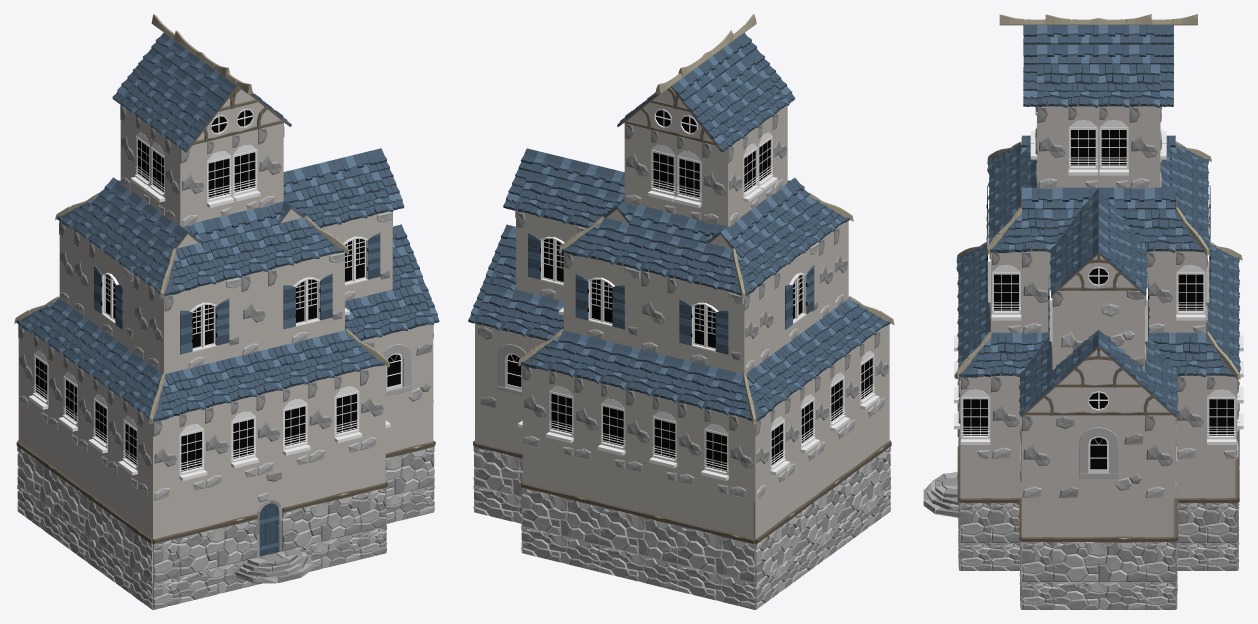
The model's file is house_3.fbx.
3 renders of one model, left to right at view 1: azimuth 30°, elevation 25°; view 2: azimuth 150°, elevation 25°; view 3: azimuth 270°, elevation 25°, orthographic. The views are drawn at different scales.
Parts seen in each view (by area): view 1: WALL_01_13, WALL_01_14, WINDOW_04_9, WINDOW_04_10, WINDOW_07_6, WINDOW_04_11, WALL_01_23, WALL_01_15, WALL_01_16, WALL_01_17, WINDOW_04_15, WINDOW_01_28 (+91 smaller); view 2: WALL_01_18, WALL_01_19, WALL_01_20, WINDOW_04_13, WINDOW_04_14, WINDOW_07_7, WINDOW_04_12, WALL_01_21, WALL_01_17, WALL_01_15, WALL_01_16, WINDOW_04_15 (+86 smaller); view 3: WALL_01_22, WINDOW_07_5, WALL_05_2, WALL_03_8, WINDOW_01_48, WALL_04_22, WALL_03_33, WINDOW_01_39, WINDOW_01_38, FOUNDATION_01_11, WALL_03_9, WINDOW_01_40 (+75 smaller).
Boxes of the visible parts, left/top/right/bottom form: WALL_01_13: left=282, top=451, right=360, bottom=551; WALL_01_14: left=179, top=476, right=257, bottom=576; WINDOW_04_9: left=267, top=252, right=344, bottom=349; WINDOW_04_10: left=164, top=277, right=241, bottom=373; WINDOW_07_6: left=362, top=324, right=433, bottom=415; WINDOW_04_11: left=321, top=211, right=392, bottom=301; WALL_01_23: left=385, top=404, right=434, bottom=496; WALL_01_15: left=106, top=469, right=154, bottom=582; WALL_01_16: left=61, top=436, right=108, bottom=549; WALL_01_17: left=16, top=404, right=63, bottom=516; WINDOW_04_15: left=89, top=242, right=133, bottom=352; WINDOW_01_28: left=230, top=396, right=258, bottom=482; WALL_01_18: left=676, top=483, right=756, bottom=582; WALL_01_19: left=599, top=464, right=677, bottom=563; WALL_01_20: left=521, top=445, right=600, bottom=544; WINDOW_04_13: left=667, top=276, right=745, bottom=373; WINDOW_04_14: left=563, top=253, right=640, bottom=349; WINDOW_07_7: left=475, top=323, right=545, bottom=415; WINDOW_04_12: left=516, top=210, right=586, bottom=300; WALL_01_21: left=473, top=405, right=522, bottom=496; WALL_01_17: left=753, top=469, right=802, bottom=582; WALL_01_15: left=844, top=404, right=891, bottom=516; WALL_01_16: left=800, top=436, right=846, bottom=549; WINDOW_04_15: left=774, top=242, right=819, bottom=352; WALL_01_22: left=1052, top=498, right=1144, bottom=581; WINDOW_07_5: left=1052, top=415, right=1144, bottom=498; WALL_05_2: left=1052, top=290, right=1144, bottom=368; WALL_03_8: left=1021, top=415, right=1052, bottom=498; WINDOW_01_48: left=1098, top=106, right=1129, bottom=188; WALL_04_22: left=1021, top=498, right=1052, bottom=581; WALL_03_33: left=1129, top=106, right=1160, bottom=188; WINDOW_01_39: left=1175, top=251, right=1206, bottom=333; WINDOW_01_38: left=1206, top=375, right=1236, bottom=459; FOUNDATION_01_11: left=1052, top=582, right=1144, bottom=609; WALL_03_9: left=1145, top=415, right=1175, bottom=498; WINDOW_01_40: left=960, top=376, right=990, bottom=459.
Size of the model in its own units: 1244 by 1786 by 1040.
